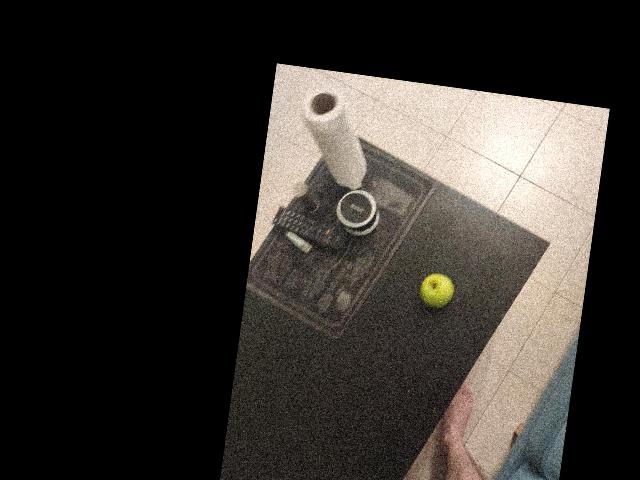apple: (431, 211, 503, 274)
